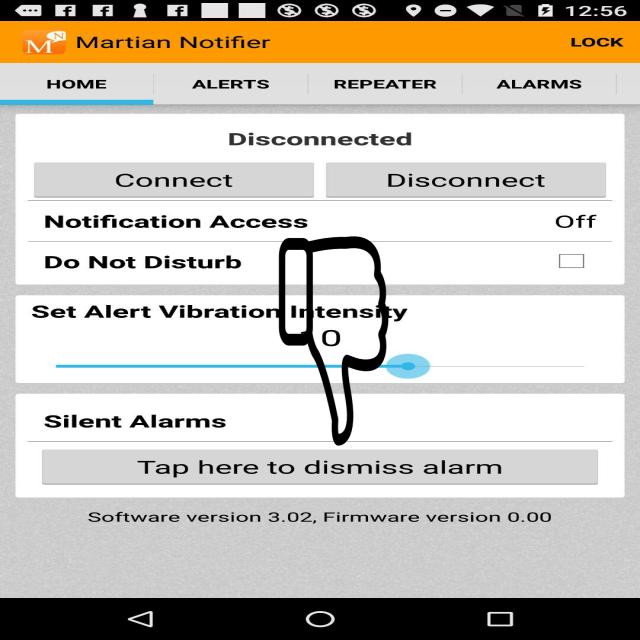obstruction: (277, 236, 390, 446)
